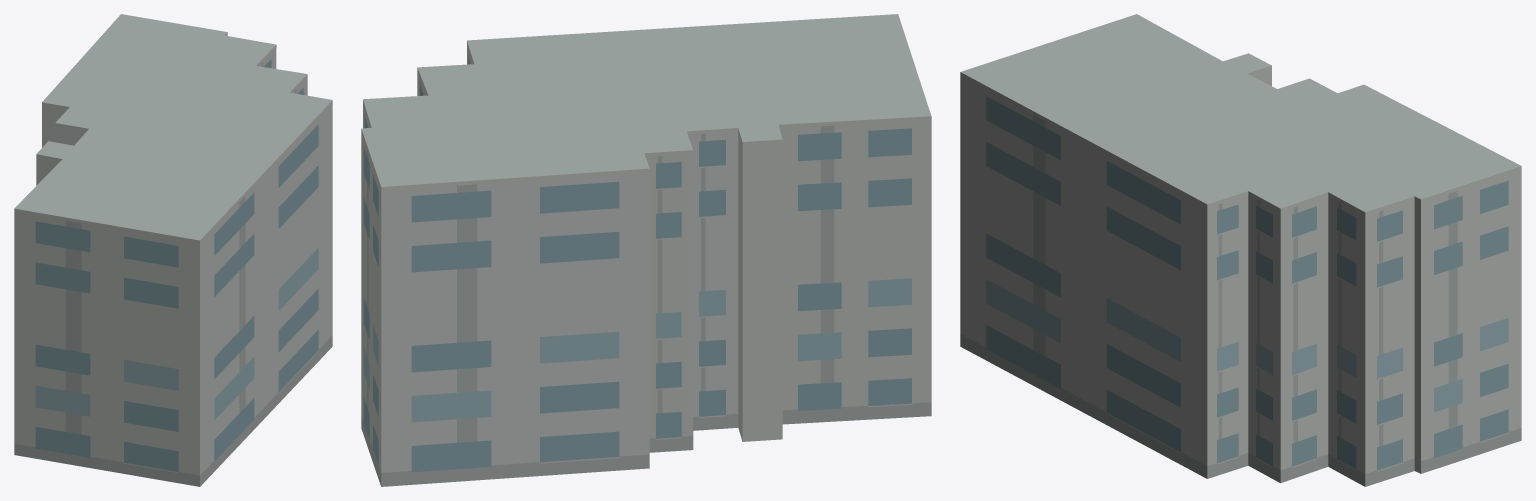
Rendered from survey-upis-32835665.glb.
The picture shows the model from 3 angles, left to right: view 1: azimuth 30°, elevation 25°; view 2: azimuth 150°, elevation 25°; view 3: azimuth 270°, elevation 25°; orthographic projection. The views are drawn at different scales.
Visible parts, largest first — view 1: survey-upis-32835665.tmp; view 2: survey-upis-32835665.tmp; view 3: survey-upis-32835665.tmp.
Part boxes in pixels (bbox=[...]): survey-upis-32835665.tmp: bbox=[14, 14, 332, 486]; survey-upis-32835665.tmp: bbox=[361, 14, 931, 486]; survey-upis-32835665.tmp: bbox=[960, 14, 1521, 486].
Size of the model in its own units: 29.67 by 19.15 by 35.49.
